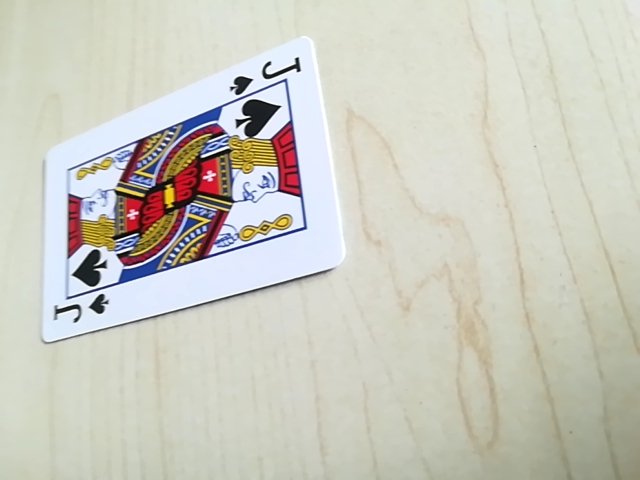ht j: (46, 286, 117, 335), (226, 54, 308, 95)
